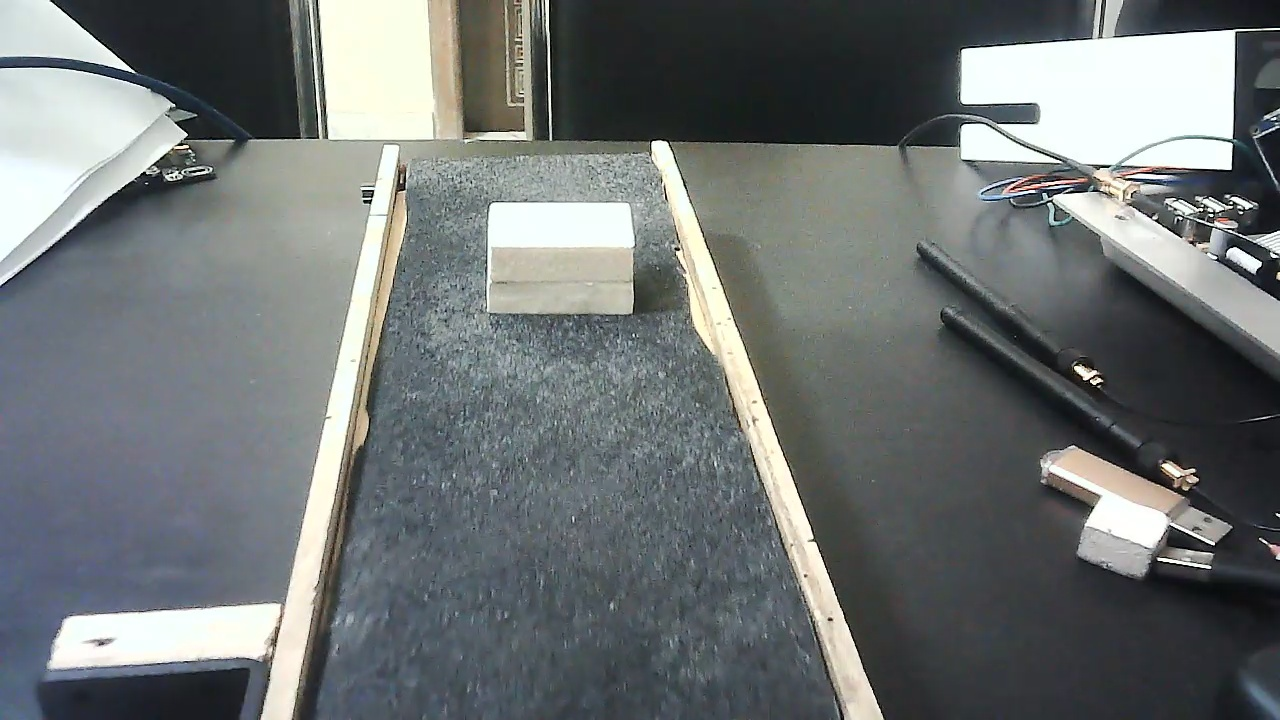BIG: (487, 187, 635, 335)
